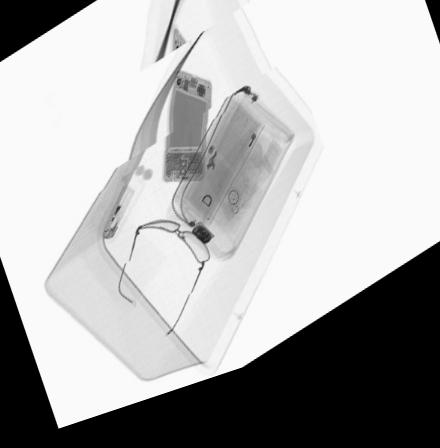Lighter: (98, 191, 134, 248)
